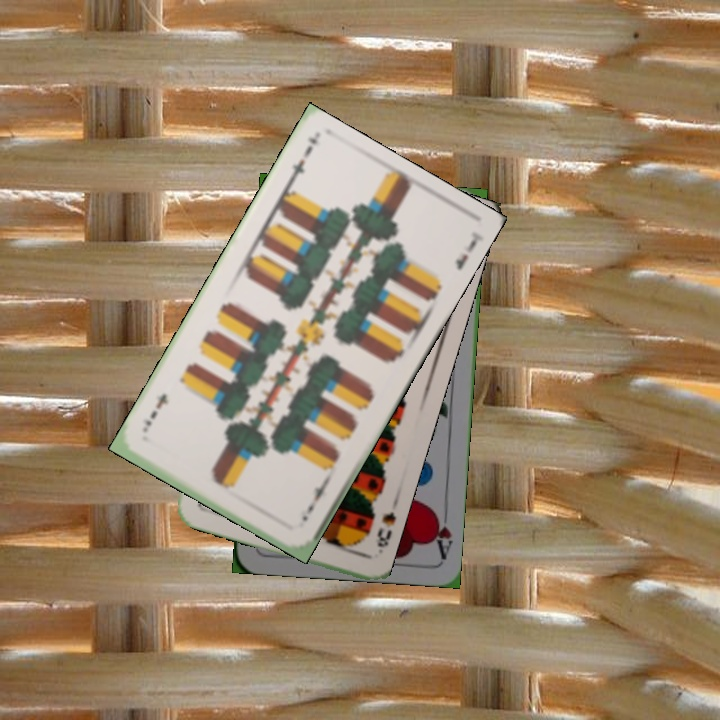E7: (297, 476, 331, 524), (283, 141, 316, 189)
HA: (427, 502, 455, 561)
S8: (373, 507, 398, 556)
